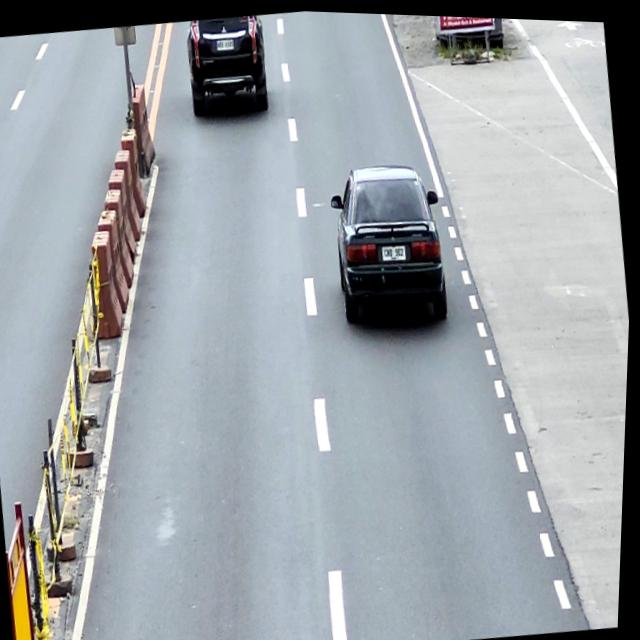Car: (323, 153, 455, 329), (182, 10, 273, 117)
License-Plate: (383, 241, 408, 259), (215, 37, 234, 49)
